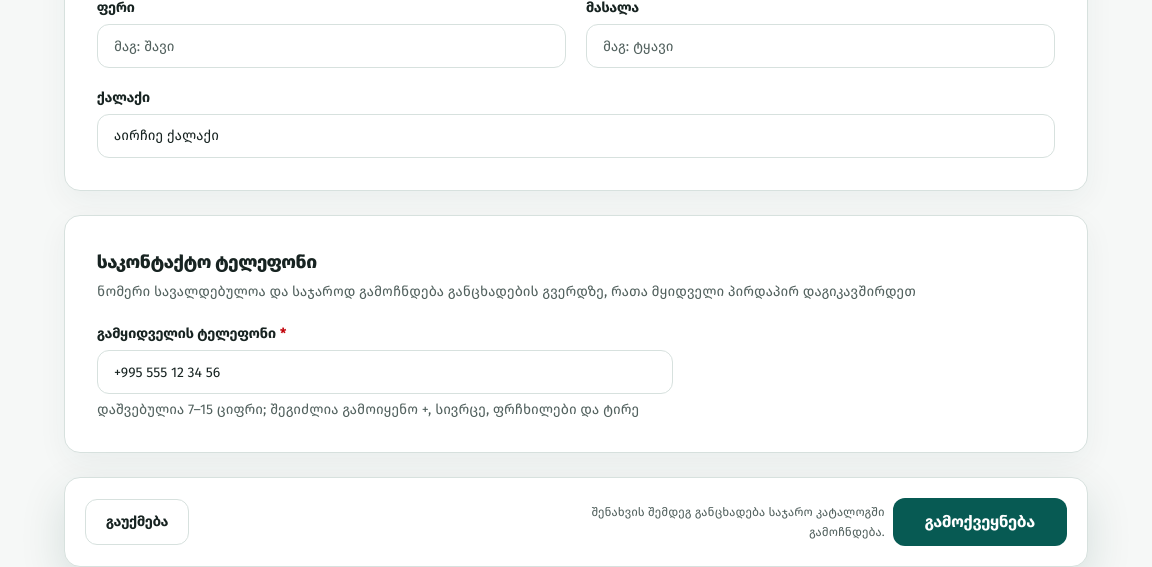
it: CreateListingForm › shows field-level errors and focuses the error summary
The image size is (1152, 567).
(page scrolled)
Click the button "გამოქვეყნება". click: (980, 522)
box: x1=893 y1=498 x2=1067 y2=546
(page scrolled)
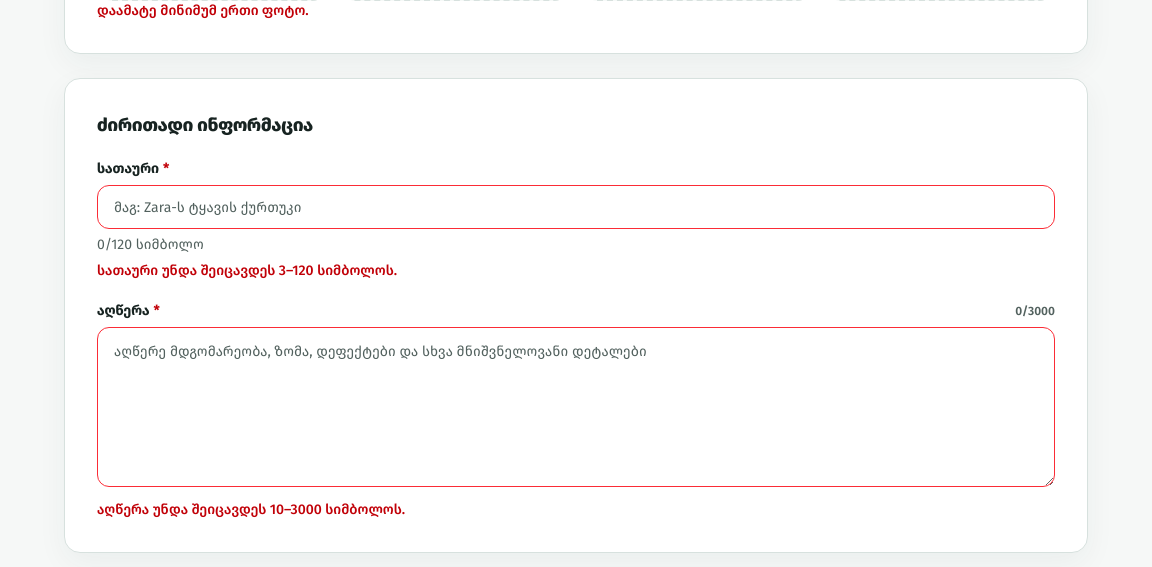
Now the text "სათაური უნდა შეიცავდეს 3–120 სიმბოლოს." is shown, box x1=97 y1=262 x2=397 y2=279
